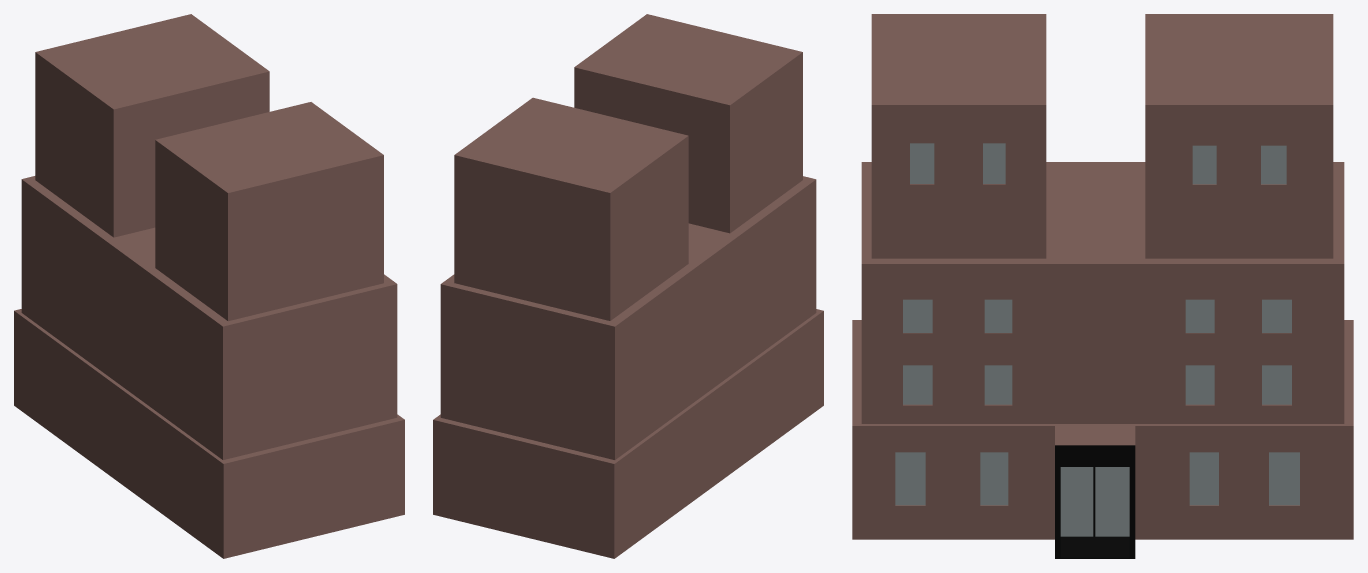
The model's file is Office.fbx.
The picture shows the model from 3 angles, left to right: view 1: azimuth 30°, elevation 25°; view 2: azimuth 150°, elevation 25°; view 3: azimuth 270°, elevation 25°; orthographic projection. The views are drawn at different scales.
Visible parts, largest first — view 1: pCube1; view 2: pCube1; view 3: pCube1.
Part boxes in pixels (x1,y1,x2,y2): pCube1: [14, 14, 404, 558]; pCube1: [433, 14, 823, 558]; pCube1: [852, 14, 1353, 558].
Bounding box in the file's own units: 14.04 × 22.29 × 23.74.
